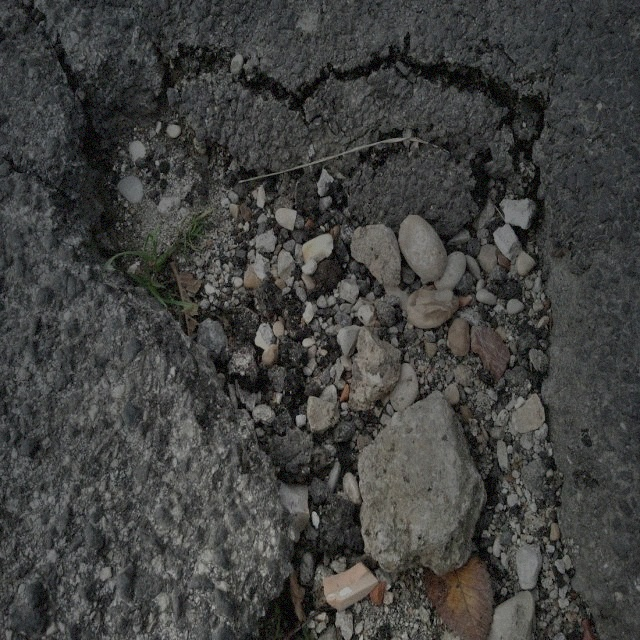pothole: (70, 38, 559, 524)
